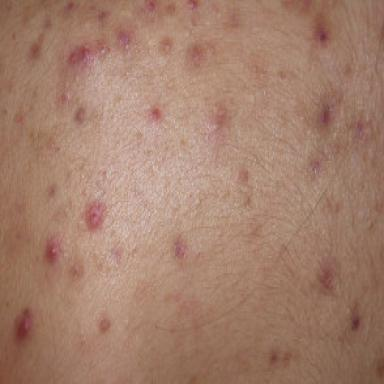acne: (186, 43, 213, 67), (67, 45, 95, 68), (84, 200, 104, 230), (15, 308, 32, 342), (206, 113, 226, 137), (314, 14, 329, 44), (45, 237, 61, 263), (319, 264, 334, 290), (29, 34, 43, 60), (350, 303, 361, 331), (69, 261, 84, 281), (319, 103, 331, 126), (117, 30, 131, 47), (174, 239, 185, 259), (109, 248, 121, 265), (376, 357, 384, 382), (98, 317, 111, 332), (160, 38, 173, 53), (240, 191, 251, 208), (74, 107, 85, 123), (97, 43, 109, 57), (354, 121, 365, 136), (282, 352, 293, 367), (238, 167, 248, 183), (151, 107, 161, 121), (97, 9, 107, 23), (47, 184, 57, 198), (269, 351, 278, 366), (43, 16, 52, 31), (64, 1, 74, 14), (166, 2, 176, 15), (311, 159, 320, 173), (14, 113, 25, 124), (146, 0, 156, 11), (60, 92, 71, 102), (188, 0, 197, 10)
